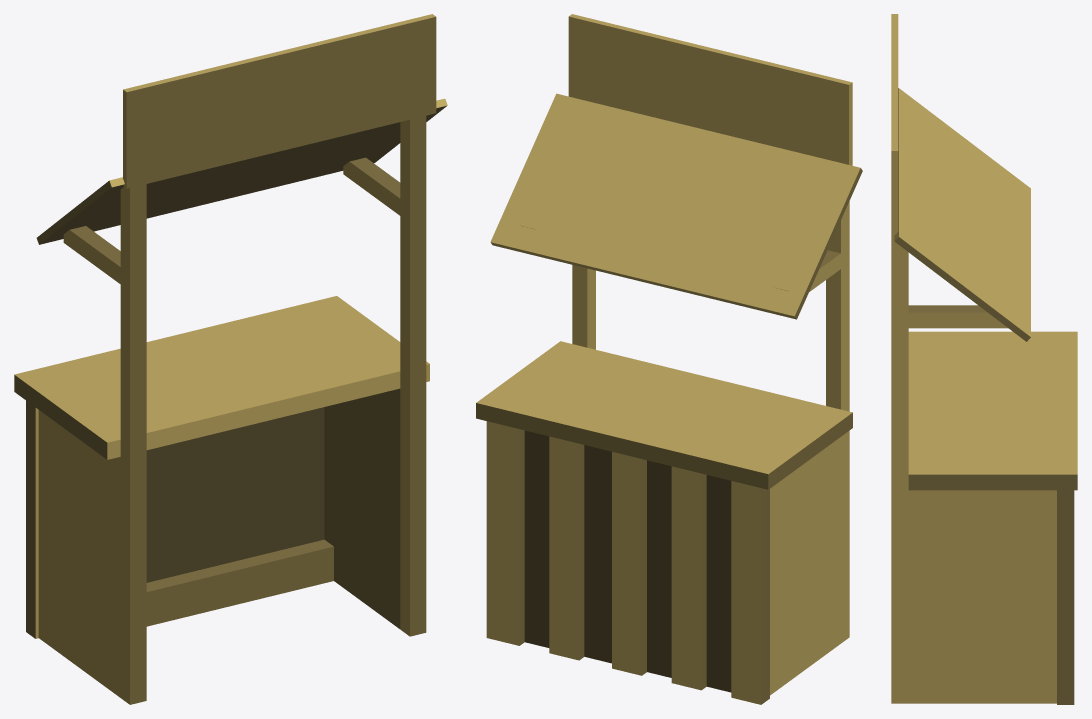
File: Lemonade Stand AllDone.fbx
The picture shows the model from 3 angles, left to right: view 1: azimuth 30°, elevation 25°; view 2: azimuth 150°, elevation 25°; view 3: azimuth 270°, elevation 25°; orthographic projection. The views are drawn at different scales.
Visible parts, largest first — view 1: Top, Sign, Wall, lWall, rWall, Holder, Holder_1, Roof, Base, cube_4, Beam1, Beam2; view 2: Roof, Top, Sign, Wall, lWall, cube, cube_4, cube_3, cube_1, cube_2, Holder, Holder_1 (+1 smaller); view 3: rWall, Top, Roof, Holder_1, cube, Wall, Beam1, Sign.
Part boxes in pixels (x1,y1,x2,y2): Top: (14,296,429,459); Sign: (123,14,436,188); Wall: (38,407,324,641); lWall: (44,414,120,697); rWall: (324,388,400,628); Holder: (120,184,146,704); Holder_1: (400,116,426,636); Roof: (36,98,447,244); Base: (146,539,333,626); cube_4: (26,400,38,638); Beam1: (343,157,400,215); Beam2: (63,226,120,283); Roof: (490,93,862,319); Top: (476,341,852,489); Sign: (568,14,852,165); Wall: (524,430,771,695); lWall: (772,437,840,693); cube: (486,421,524,645); cube_4: (731,481,769,704); cube_3: (671,466,706,690); cube_1: (549,436,584,660); cube_2: (612,452,646,675); Holder: (826,201,849,643); Holder_1: (572,265,595,349); rWall: (908,490,1046,703); Top: (908,331,1077,490); Roof: (894,88,1030,341); Holder_1: (891,238,908,703); cube: (1057,490,1074,704); Wall: (1046,490,1056,703); Beam1: (908,305,1007,328); Sign: (891,14,898,238).
Bounding box in the file's own units: 63.75 × 111 × 33.75.
1 material, 1 textured.
